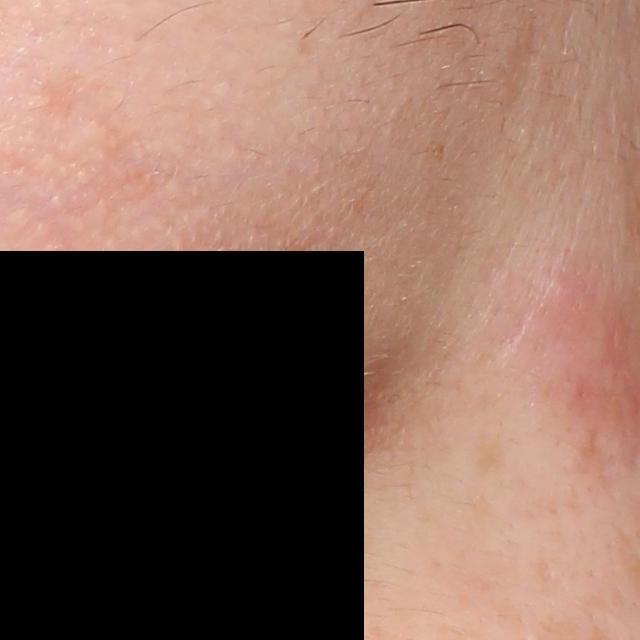melasma: (475, 435, 508, 476)
